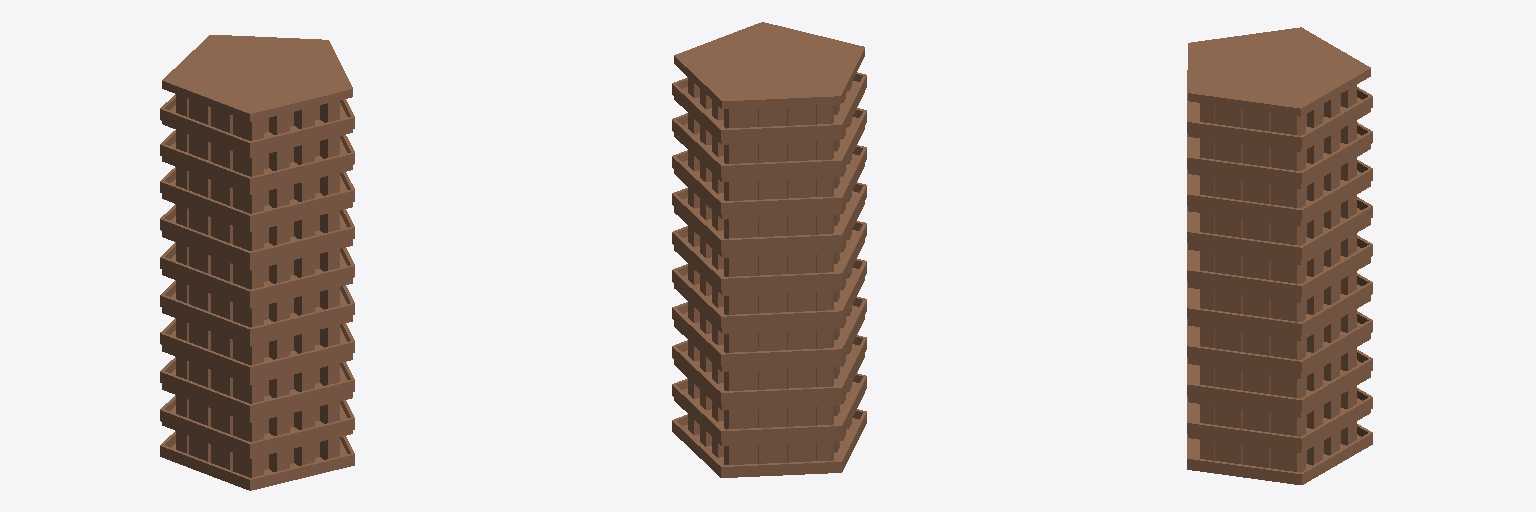
The model's file is Edificio_01.obj.
The picture shows the model from 3 angles: view 1: azimuth 30°, elevation 25°; view 2: azimuth 150°, elevation 25°; view 3: azimuth 270°, elevation 25°; orthographic projection.
Parts seen in each view (by area): view 1: Cylinder.010_Cylinder.024; view 2: Cylinder.010_Cylinder.024; view 3: Cylinder.010_Cylinder.024.
Boxes of the visible parts, box(x1,y1,x2,y2) form: Cylinder.010_Cylinder.024: box(160, 35, 354, 490); Cylinder.010_Cylinder.024: box(672, 22, 866, 477); Cylinder.010_Cylinder.024: box(1187, 27, 1372, 484).
Size of the model in its own units: 16.68 by 35.2 by 15.86.